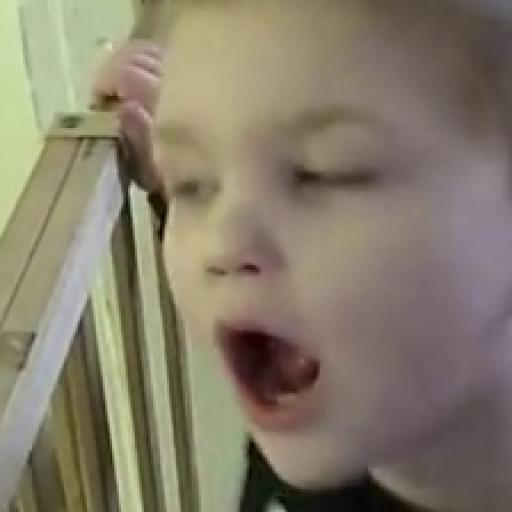Autism: (139, 0, 512, 503)
